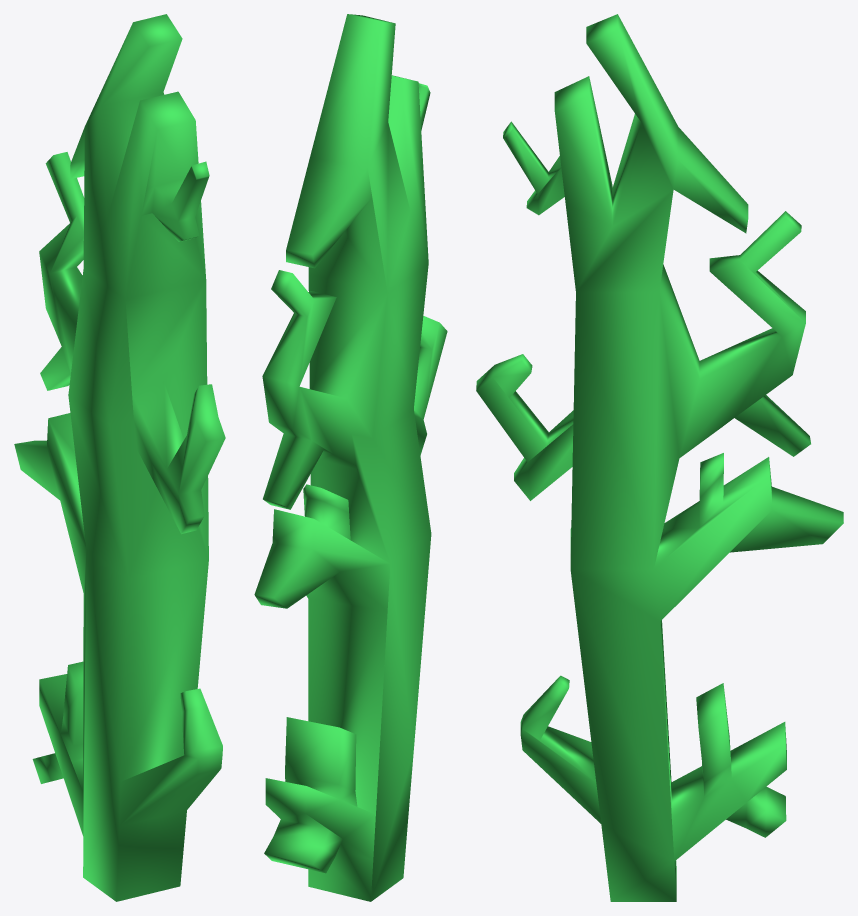
Rendered from Coral2_verde.glb.
3 renders of one model, left to right at view 1: azimuth 30°, elevation 25°; view 2: azimuth 150°, elevation 25°; view 3: azimuth 270°, elevation 25°, orthographic. The views are drawn at different scales.
Parts seen in each view (by area): view 1: Cube.001; view 2: Cube.001; view 3: Cube.001.
Part boxes in pixels (x1=…): Cube.001: x1=14, y1=14, x2=225, y2=901; Cube.001: x1=254, y1=14, x2=447, y2=901; Cube.001: x1=476, y1=14, x2=843, y2=901.
Size of the model in its own units: 0.6 by 6.2 by 2.38.
